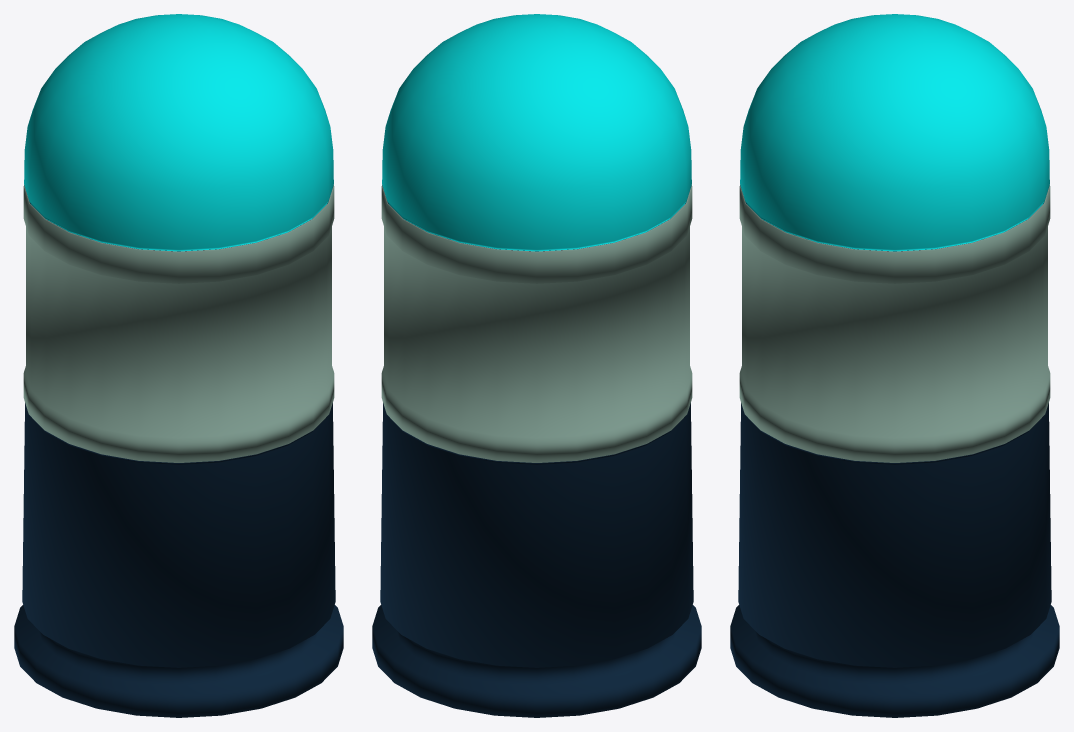
The model's file is granade (1).fbx.
The picture shows the model from 3 angles, left to right: view 1: azimuth 30°, elevation 25°; view 2: azimuth 150°, elevation 25°; view 3: azimuth 270°, elevation 25°; orthographic projection.
Visible parts, largest first — view 1: 구체; view 2: 구체; view 3: 구체.
Boxes of the visible parts, x1,y1,x2,y2 form: 구체: [14, 14, 343, 717]; 구체: [372, 14, 701, 717]; 구체: [730, 14, 1059, 717].
Size of the model in its own units: 211 by 438 by 211.
